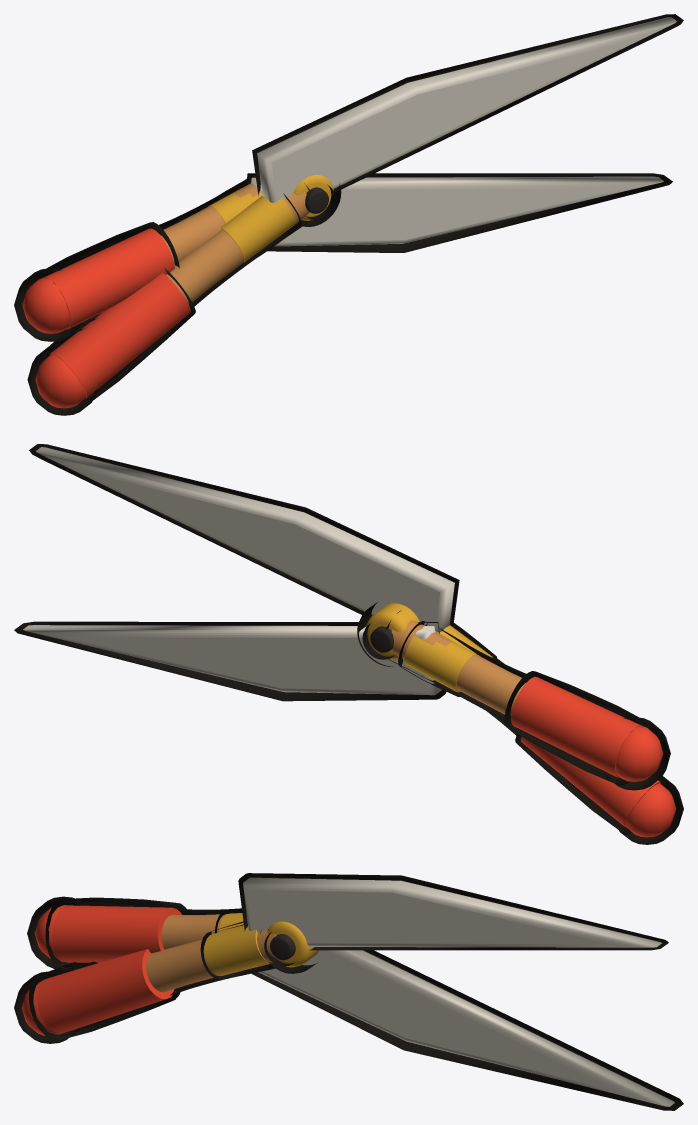
Rendered from shears.glb.
3 views of the same model, one above another, from view 1: azimuth 30°, elevation 25°; view 2: azimuth 150°, elevation 25°; view 3: azimuth 330°, elevation 25° (orthographic).
Parts seen in each view (by area): view 1: Shears, Shears_outline; view 2: Shears, Shears_outline; view 3: Shears, Shears_outline.
Boxes of the visible parts, left/top/right/bottom form: Shears: left=22, top=17, right=676, bottom=408; Shears_outline: left=14, top=14, right=683, bottom=415; Shears: left=23, top=447, right=675, bottom=837; Shears_outline: left=14, top=444, right=683, bottom=844; Shears: left=22, top=877, right=674, bottom=1106; Shears_outline: left=14, top=873, right=683, bottom=1110.
Size of the model in its own units: 2.61 by 0.9485 by 0.3483.
